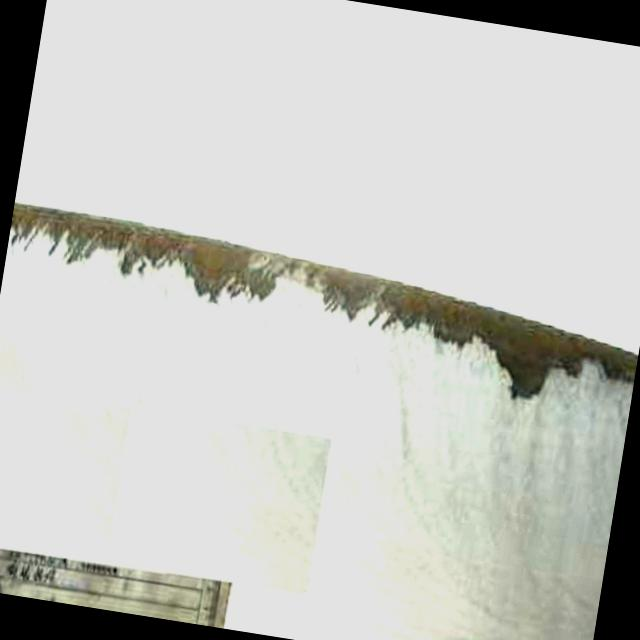corrosion: (314, 264, 640, 413), (6, 198, 317, 312)
